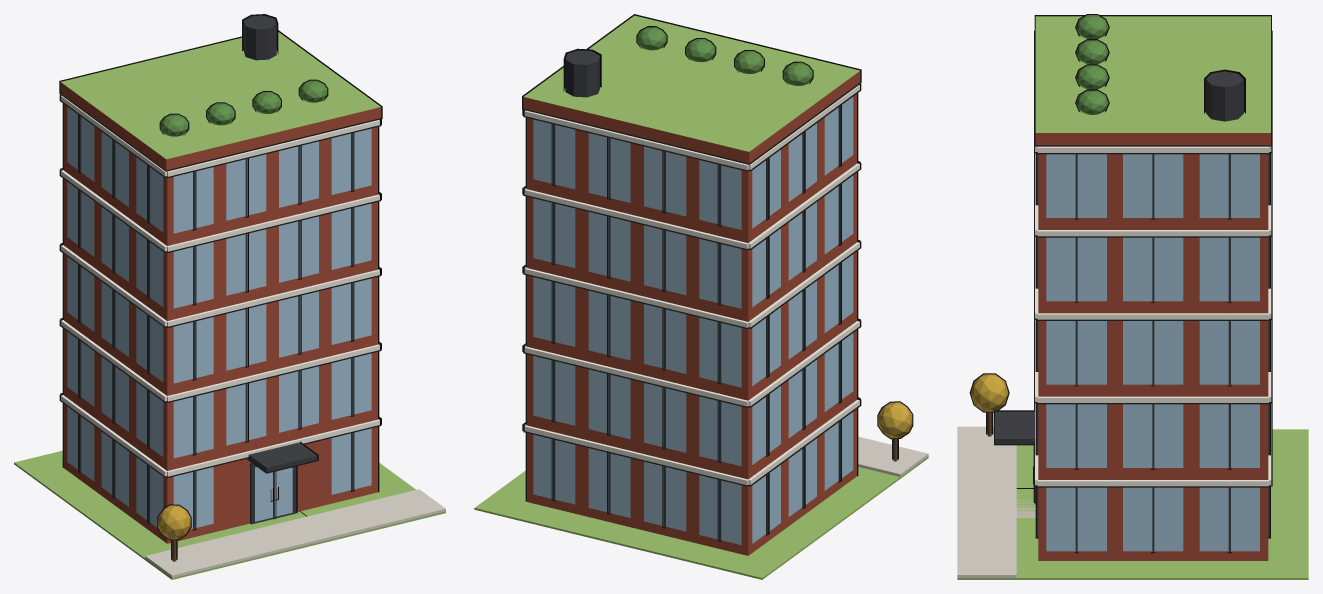
The model's file is Buro_tugla_cam_2.fbx.
3 views of the same model, side by side, from view 1: azimuth 30°, elevation 25°; view 2: azimuth 150°, elevation 25°; view 3: azimuth 270°, elevation 25° (orthographic). The views are drawn at different scales.
Visible parts, largest first — view 1: Buro_tugla_cam_2; view 2: Buro_tugla_cam_2; view 3: Buro_tugla_cam_2.
Boxes of the visible parts, box(x1,y1,x2,y2) form: Buro_tugla_cam_2: box(14, 14, 445, 579); Buro_tugla_cam_2: box(474, 14, 928, 579); Buro_tugla_cam_2: box(957, 14, 1308, 579).
Size of the model in its own units: 13 by 19.1 by 13.
